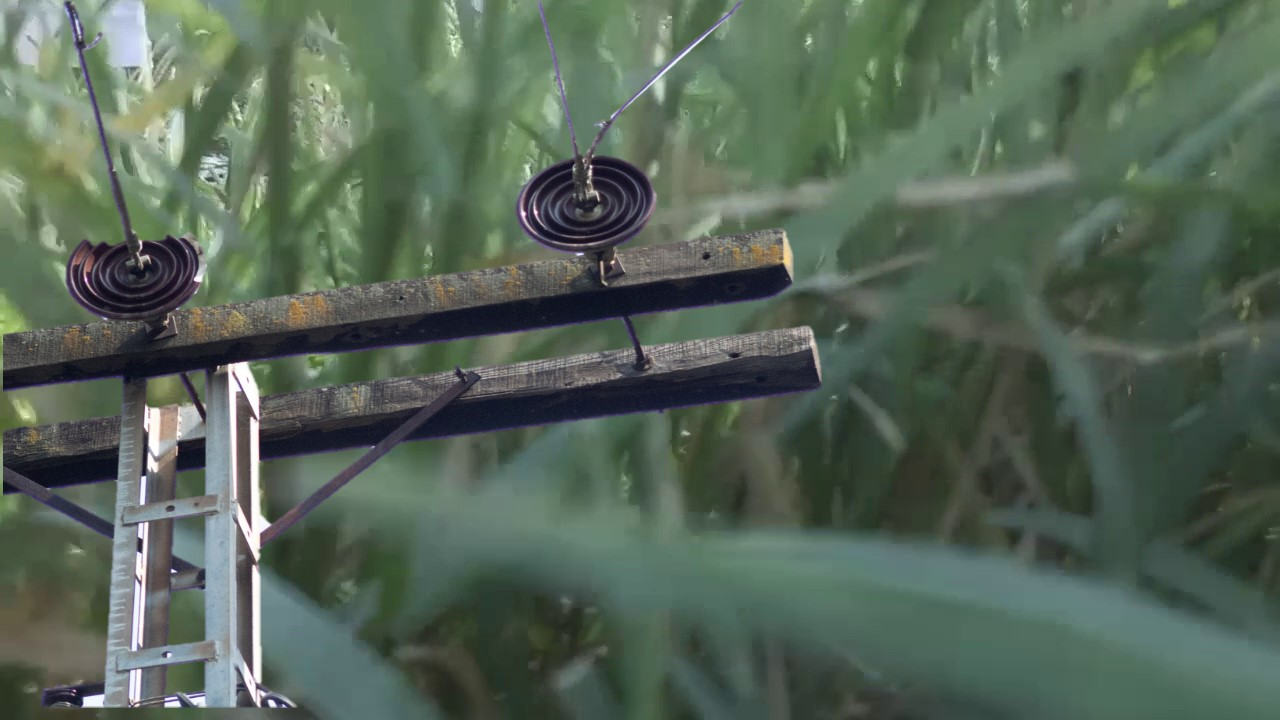defect_disc: (64, 230, 209, 327)
insulator_disc: (515, 154, 656, 258)
